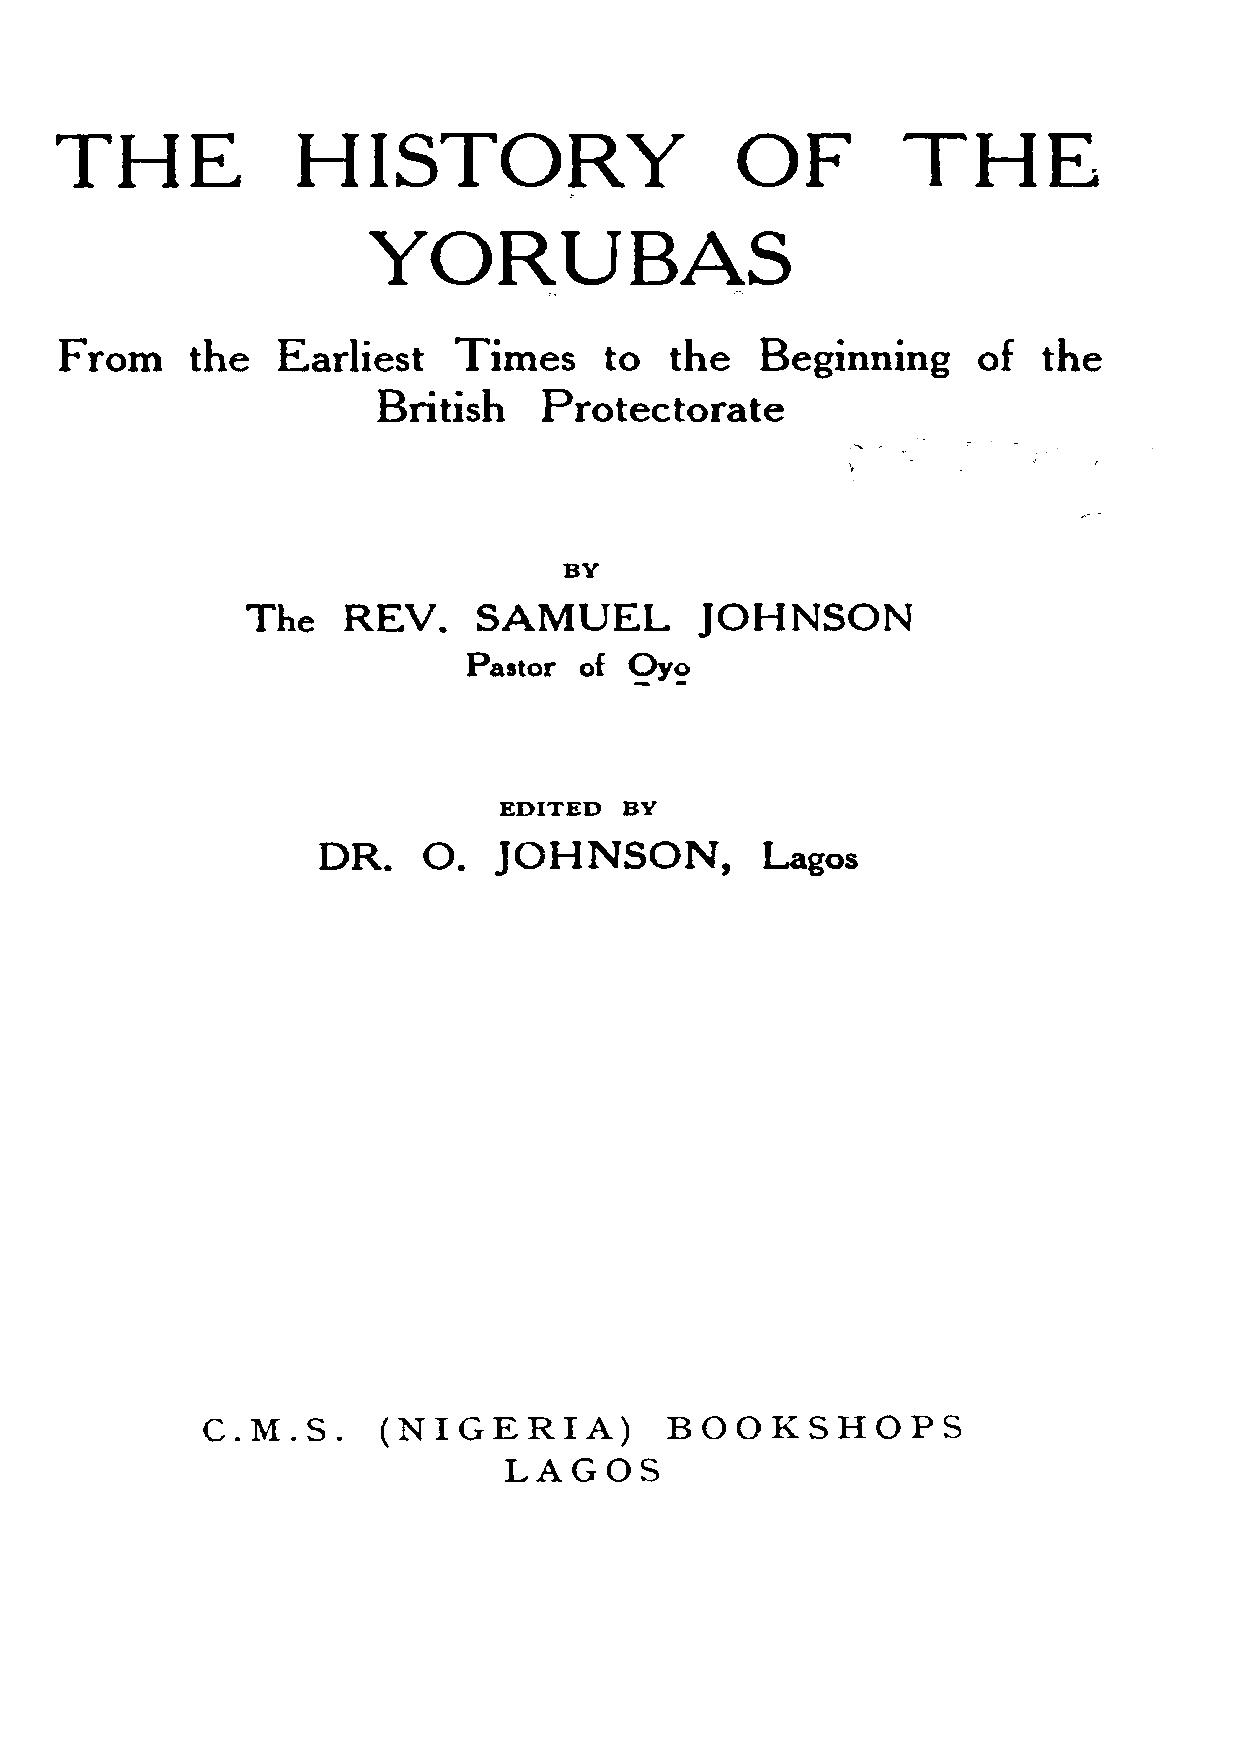author: (239, 561, 915, 640)
title: (50, 127, 1103, 289)
